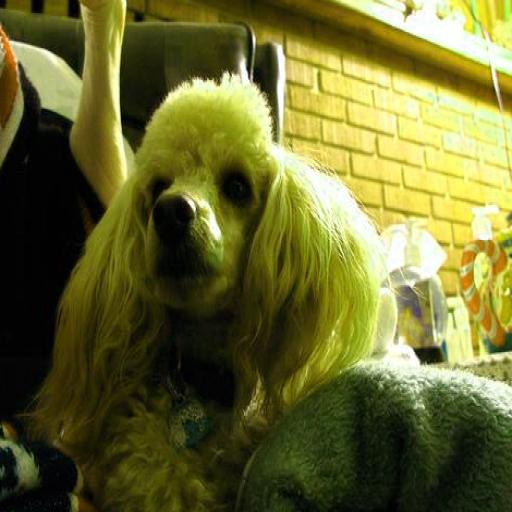dog_face: (114, 87, 288, 319)
